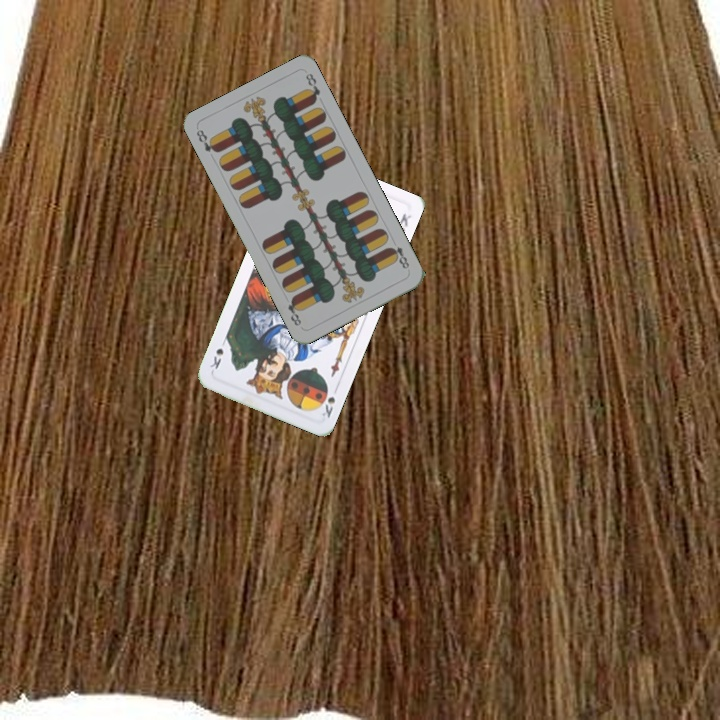E8: (385, 236, 412, 272), (192, 125, 221, 155)
SK: (318, 382, 341, 420)
